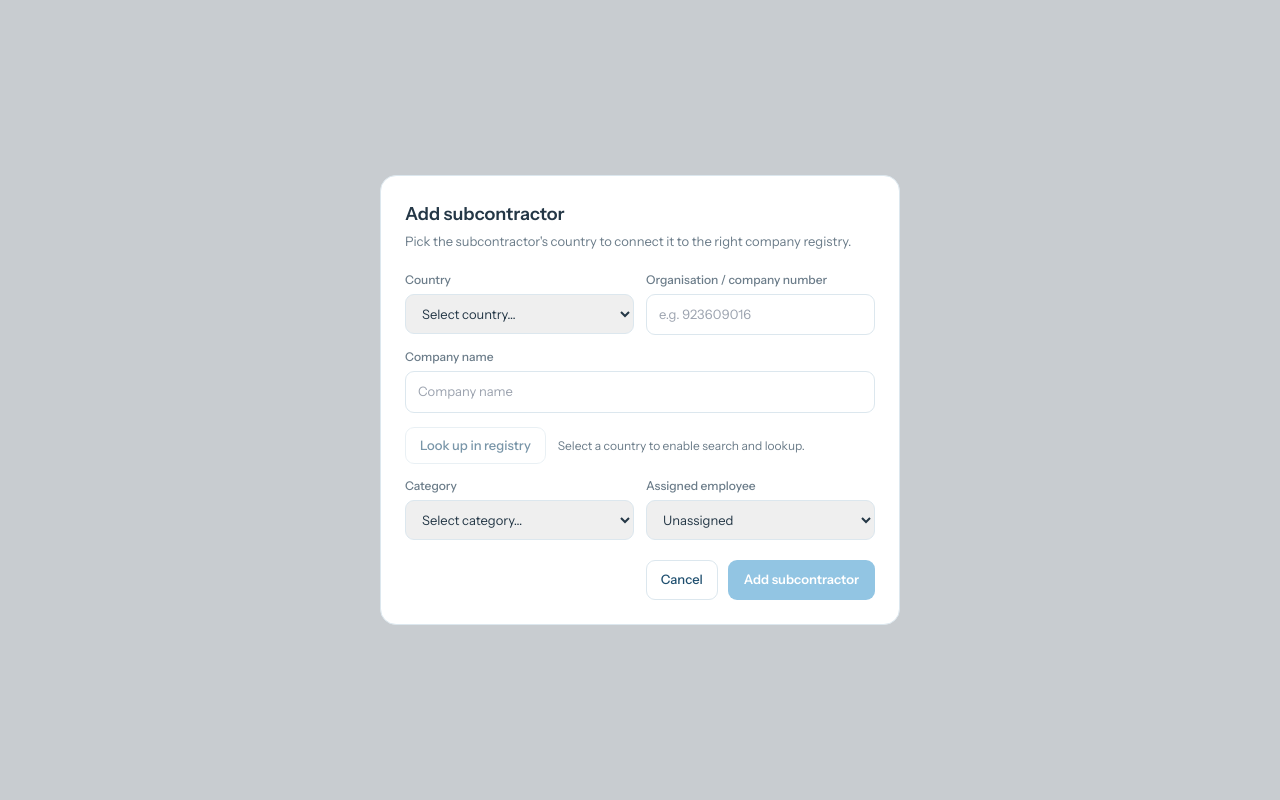
Test: AddSubcontractorModal registry search and lookup › suggestions come from the selected country only
Select "Norway" in the dropdown below "Organisation / company number" at x=520, y=314, box [405, 294, 634, 334]
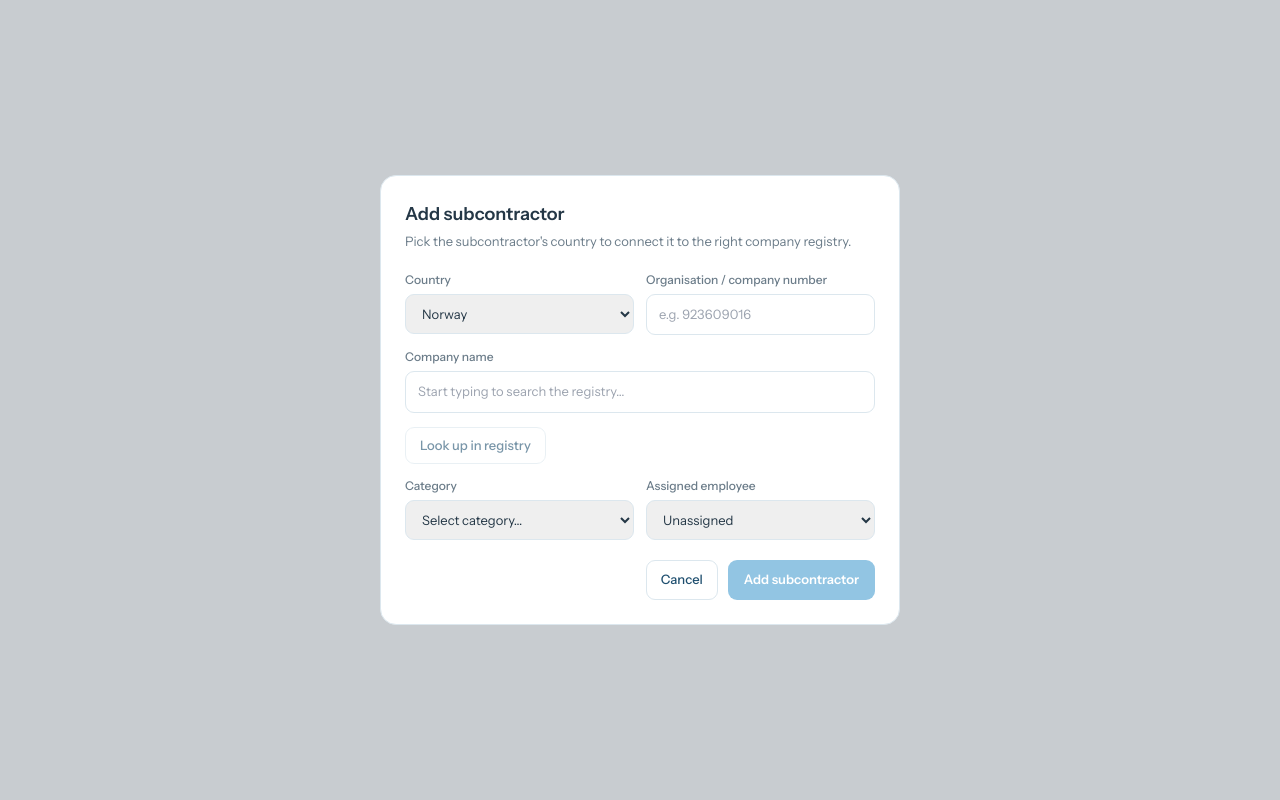
Type "Equinor" into the field with placeholder "Start typing to search the registry…" at x=640, y=392, box [405, 371, 875, 413]
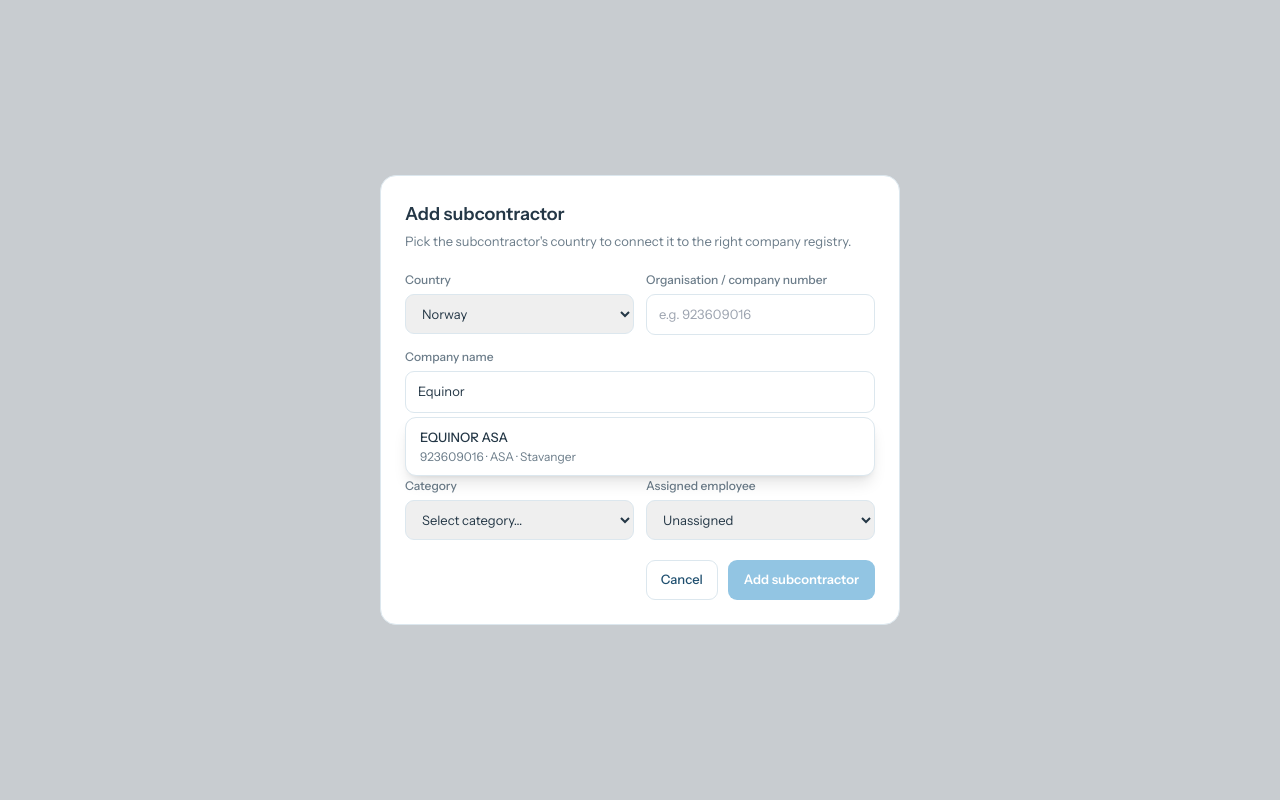
Expected: the text "TESCO PLC" is not shown
Now the text "EQUINOR ASA" is shown, box [420, 428, 508, 447]
Select "United Kingdom" in the dropdown below "Organisation / company number" at x=520, y=314, box [405, 294, 634, 334]
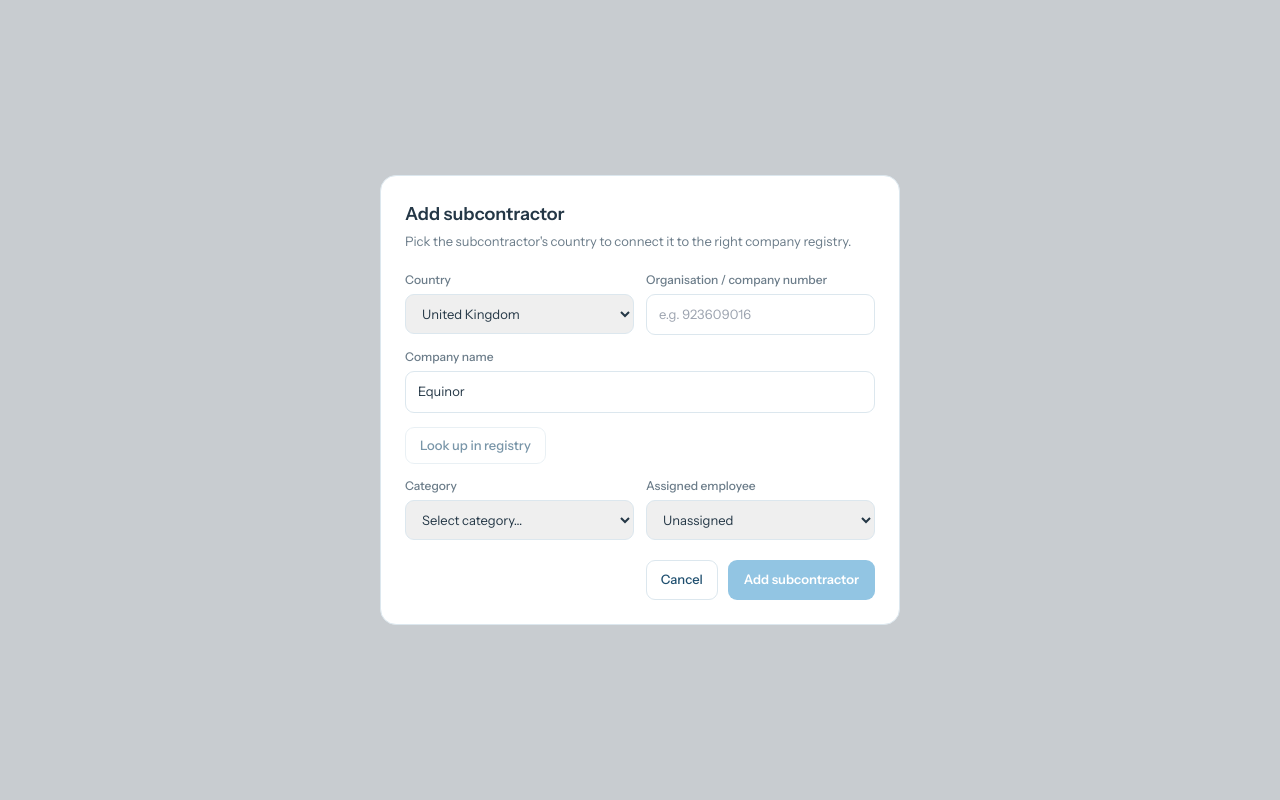
Replace the text in the field with placeholder "Start typing to search the registry…" with "Tesco" at x=640, y=392, box [405, 371, 875, 413]
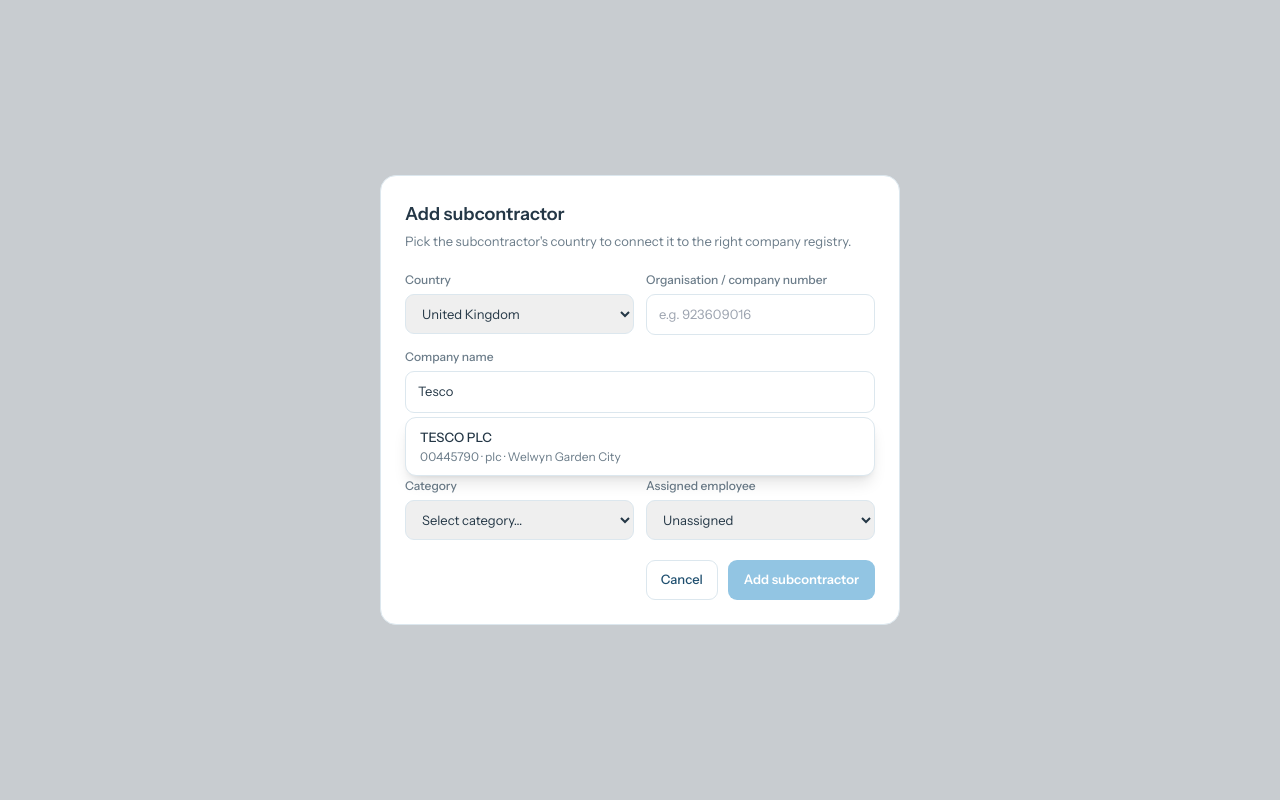
Expected: the button "EQUINOR ASA" is not shown
Now the text "TESCO PLC" is shown, box [420, 428, 492, 447]
